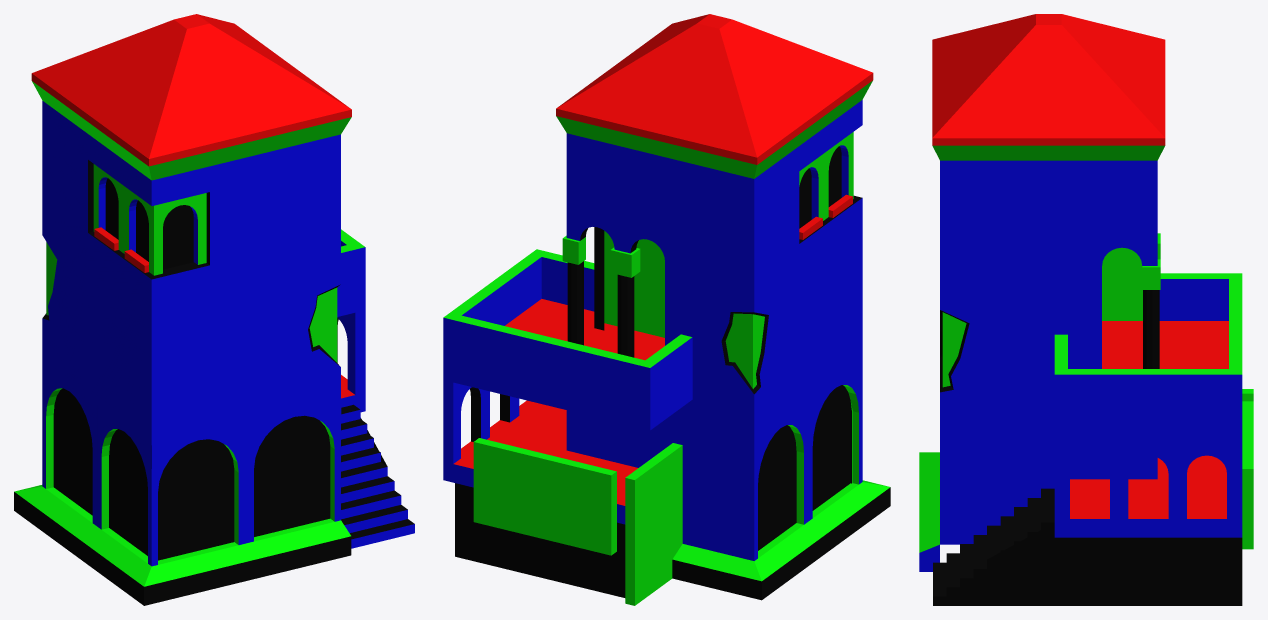
File: Tower_LV_1.fbx
The picture shows the model from 3 angles, left to right: view 1: azimuth 30°, elevation 25°; view 2: azimuth 150°, elevation 25°; view 3: azimuth 270°, elevation 25°; orthographic projection.
Visible parts, largest first — view 1: Cube.037; view 2: Cube.037; view 3: Cube.037.
Boxes of the visible parts, bbox=[...] form: Cube.037: bbox=[14, 14, 414, 605]; Cube.037: bbox=[443, 14, 890, 605]; Cube.037: bbox=[919, 14, 1253, 605].
Bounding box in the file's own units: 75.95 × 128 × 76.36.
